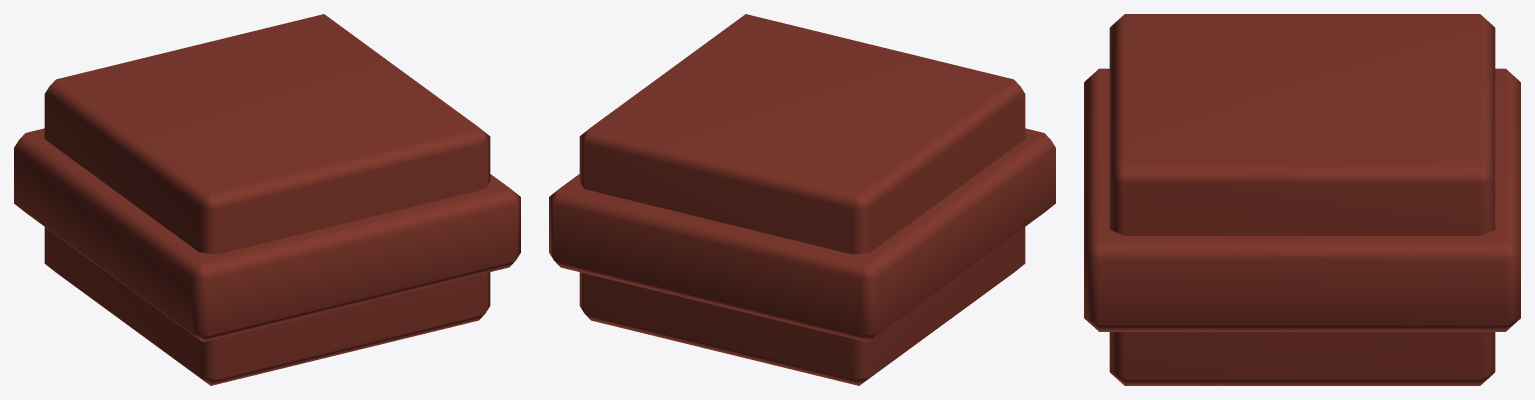
Rendered from pillar_cap_002.fbx.
The picture shows the model from 3 angles, left to right: view 1: azimuth 30°, elevation 25°; view 2: azimuth 150°, elevation 25°; view 3: azimuth 270°, elevation 25°; orthographic projection. The views are drawn at different scales.
Visible parts, largest first — view 1: pillar_cap_002; view 2: pillar_cap_002; view 3: pillar_cap_002.
Part boxes in pixels (box(x1,y1,x2,y2)): pillar_cap_002: box(14, 14, 520, 385); pillar_cap_002: box(549, 14, 1055, 385); pillar_cap_002: box(1084, 14, 1520, 385).
Bounding box in the file's own units: 362 × 362 × 203.
